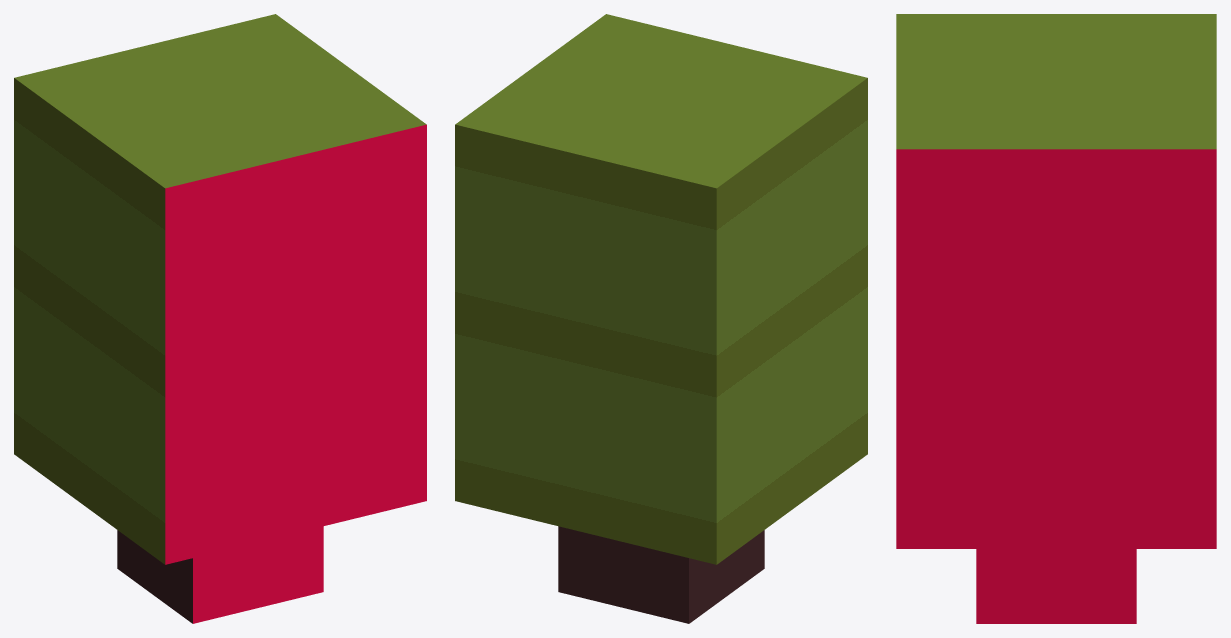
File: tree_2.gltf
3 renders of one model, left to right at view 1: azimuth 30°, elevation 25°; view 2: azimuth 150°, elevation 25°; view 3: azimuth 270°, elevation 25°, orthographic. The views are drawn at different scales.
Parts seen in each view (by area): view 1: mesh (×2); view 2: mesh (×2); view 3: mesh (×2).
Part boxes in pixels (box(x1,y1,x2,y2)): mesh (×2): box(14, 14, 426, 623); mesh (×2): box(455, 14, 867, 623); mesh (×2): box(896, 14, 1216, 623).
Size of the model in its own units: 1 by 1.75 by 1.
Materials: 1 (1 with a texture image).
